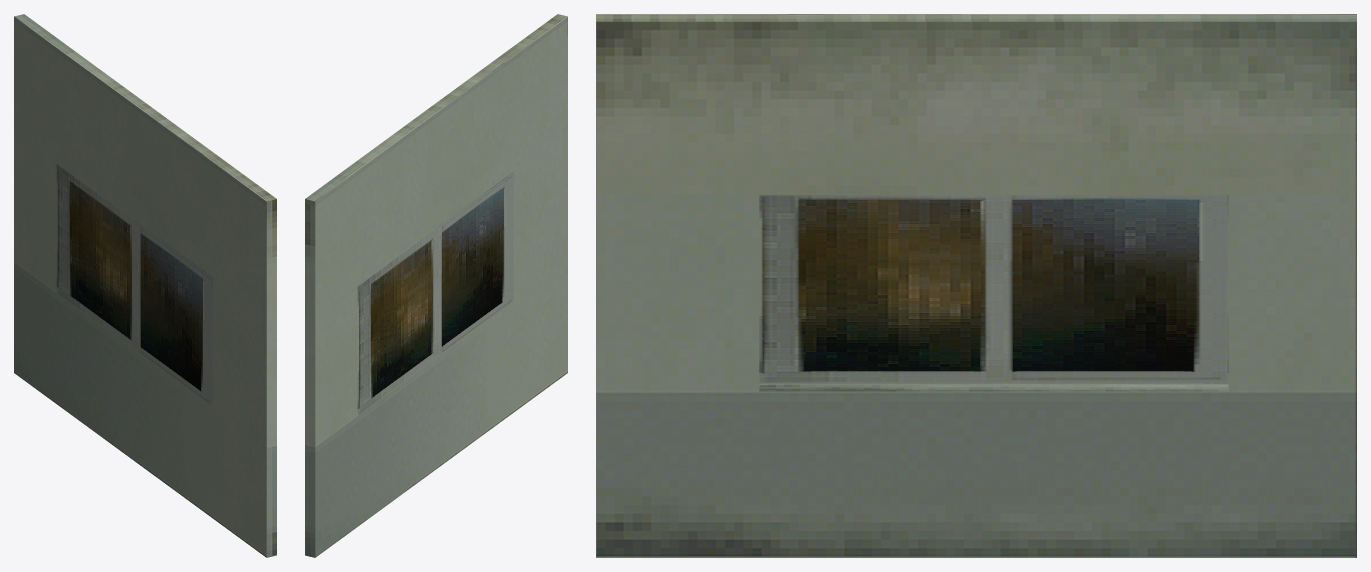
The model's file is SM_Patient_Room_Window_Wall.fbx.
The picture shows the model from 3 angles, left to right: view 1: azimuth 30°, elevation 25°; view 2: azimuth 150°, elevation 25°; view 3: azimuth 270°, elevation 25°; orthographic projection. The views are drawn at different scales.
Visible parts, largest first — view 1: SM_PatientRoom_Window_Wall; view 2: SM_PatientRoom_Window_Wall; view 3: SM_PatientRoom_Window_Wall.
Boxes of the visible parts, bbox=[...] form: SM_PatientRoom_Window_Wall: bbox=[14, 14, 276, 557]; SM_PatientRoom_Window_Wall: bbox=[305, 14, 567, 557]; SM_PatientRoom_Window_Wall: bbox=[596, 14, 1356, 557].
Size of the model in its own units: 9.03 by 300 by 386.
